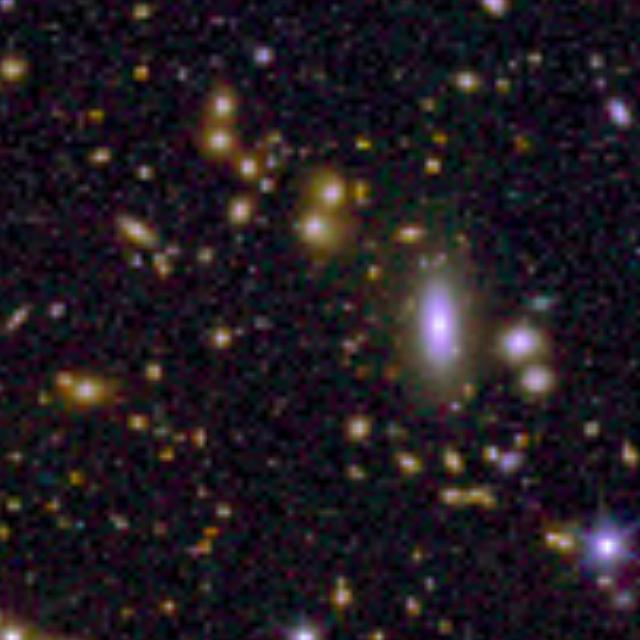galaxy: (408, 247, 486, 416), (577, 499, 640, 615), (495, 308, 550, 371), (295, 213, 362, 263), (270, 609, 345, 640), (66, 371, 131, 405), (305, 165, 346, 213), (516, 367, 563, 408), (115, 214, 164, 253), (438, 482, 499, 513), (598, 93, 640, 137), (1, 603, 49, 640), (542, 521, 583, 561), (206, 88, 244, 127), (388, 447, 429, 482), (202, 125, 239, 163), (522, 284, 565, 316), (439, 443, 471, 482), (224, 195, 257, 229), (3, 304, 37, 336), (449, 67, 485, 97), (346, 177, 376, 213), (235, 147, 261, 185), (391, 224, 432, 248), (330, 576, 354, 615), (382, 349, 407, 386), (1, 55, 31, 85), (203, 323, 233, 353), (105, 514, 139, 540), (618, 433, 639, 474), (185, 539, 219, 564), (152, 248, 186, 273), (340, 458, 369, 487), (347, 416, 374, 447), (477, 1, 515, 23), (86, 145, 118, 170), (350, 131, 378, 157), (131, 161, 159, 186), (403, 545, 438, 565), (583, 415, 606, 445), (497, 451, 527, 474), (339, 332, 373, 352), (582, 49, 608, 75), (122, 246, 145, 275), (187, 425, 209, 455), (127, 62, 154, 86), (260, 126, 287, 150), (201, 521, 228, 545), (476, 440, 501, 465), (402, 594, 425, 621), (509, 132, 533, 157), (33, 386, 59, 409), (54, 369, 75, 397), (55, 517, 87, 535), (414, 93, 437, 118), (61, 467, 86, 490), (364, 261, 387, 286), (127, 3, 153, 25), (253, 47, 277, 70), (155, 445, 179, 468), (424, 156, 447, 179), (144, 362, 165, 387), (513, 431, 534, 455), (493, 77, 514, 100), (435, 615, 456, 638), (127, 414, 152, 433), (351, 360, 372, 382), (1, 447, 24, 467), (422, 573, 441, 597), (149, 424, 176, 440), (195, 244, 215, 265), (86, 106, 105, 128), (157, 599, 180, 617), (431, 132, 452, 151), (3, 496, 24, 515), (216, 502, 235, 523), (196, 484, 217, 503), (157, 265, 180, 282), (256, 179, 277, 197), (366, 624, 389, 640), (44, 496, 62, 516), (48, 301, 65, 322), (590, 76, 613, 91), (1, 521, 15, 544), (526, 52, 545, 68), (1, 1, 20, 17), (266, 157, 281, 174), (117, 605, 132, 620)
